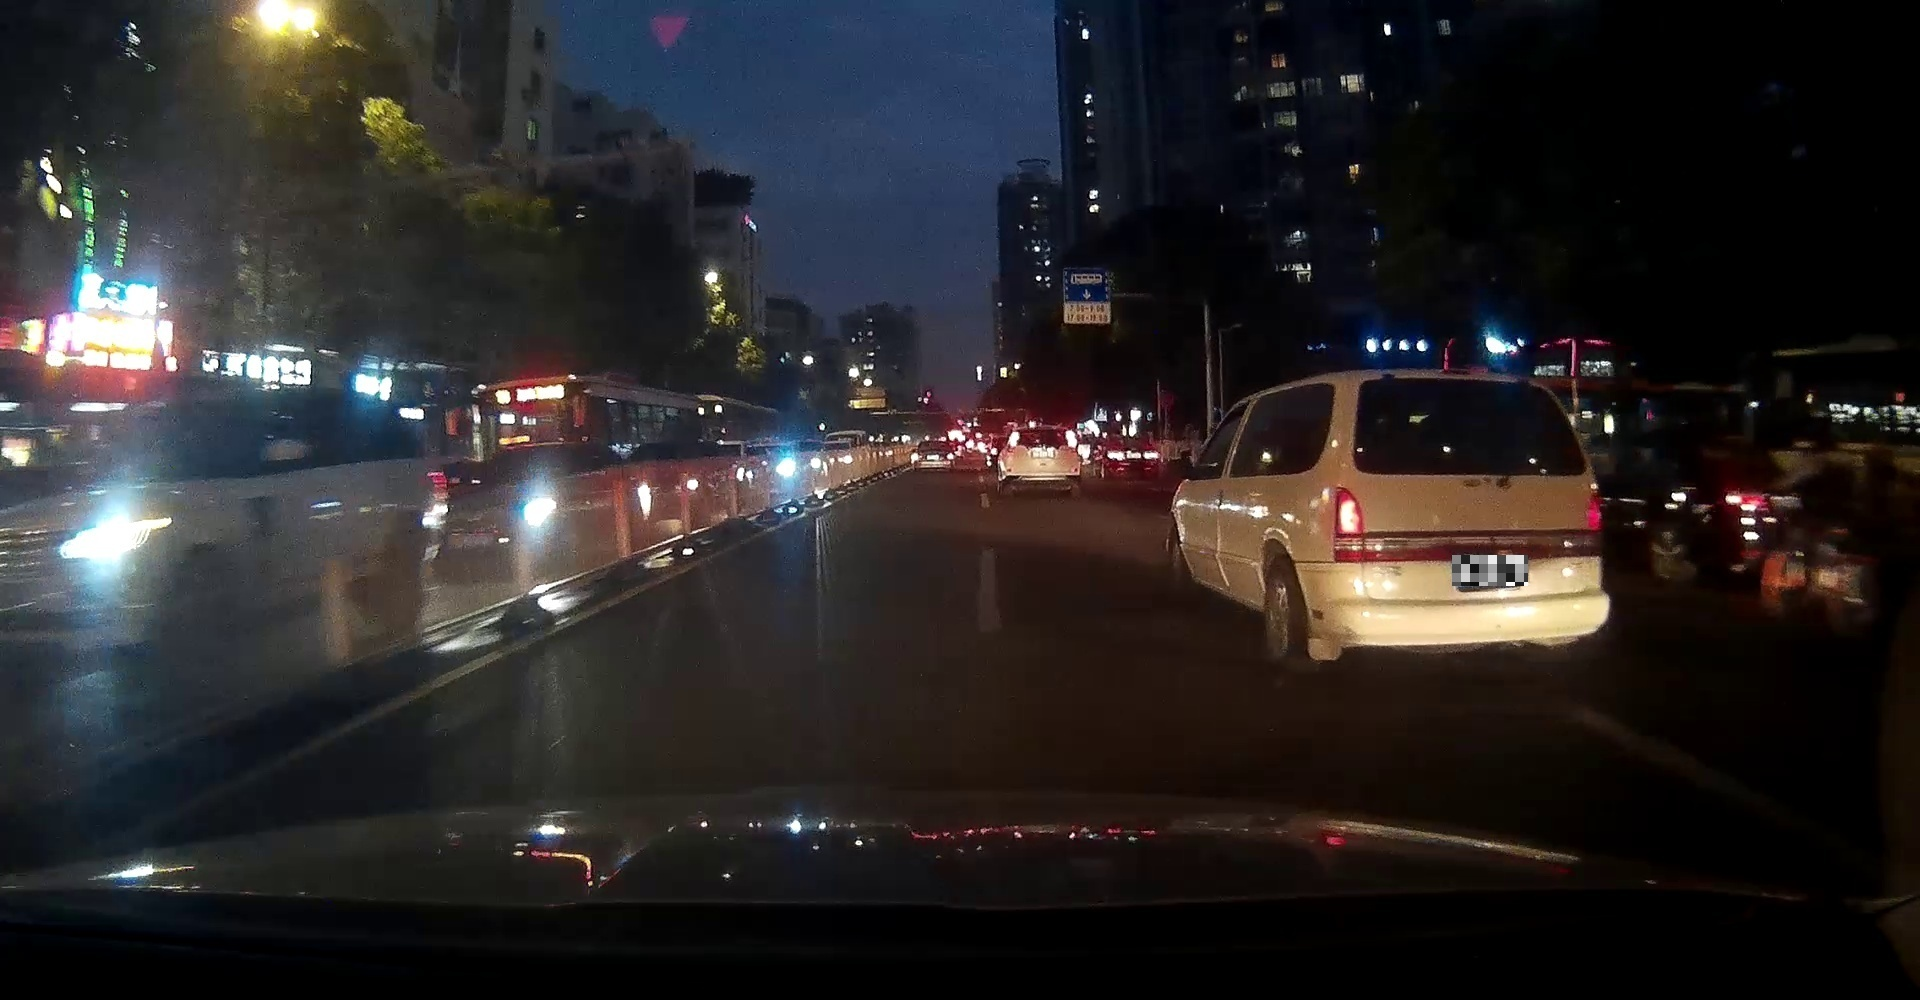L_light: (1333, 487, 1364, 563), (1007, 431, 1018, 452)
R_light: (1583, 489, 1604, 556), (1065, 430, 1077, 452)
T_light: (1440, 378, 1476, 390), (1032, 430, 1048, 434)
night-left: (1332, 368, 1609, 668)
night-no: (1003, 425, 1081, 497)
plate_1: (1451, 555, 1528, 586)
